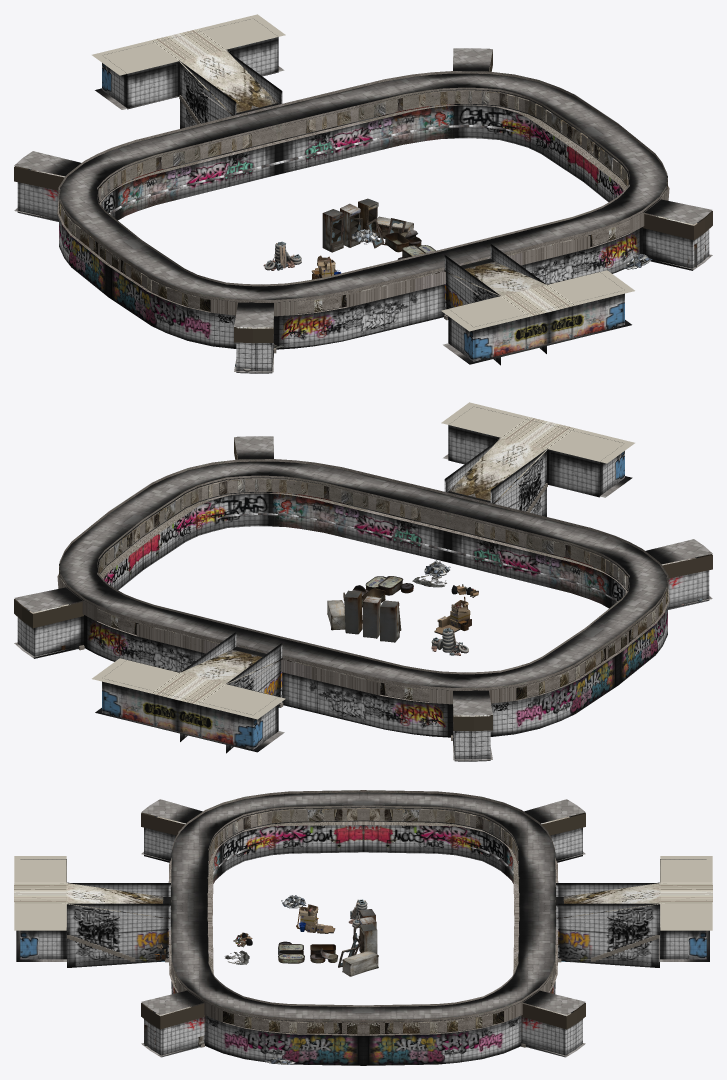
Rendered from metro_tunnel.glb.
The picture shows the model from 3 angles, top to bottom: view 1: azimuth 30°, elevation 25°; view 2: azimuth 150°, elevation 25°; view 3: azimuth 270°, elevation 25°; orthographic projection. The views are drawn at different scales.
Parts seen in each view (by area): view 1: Plane.001, Plane.006, Plane.007, Plane.004, Plane.005, node_0.006_Material.009_0, Cylinder.002, Plane.003, node_0.002_Material.007_0, node_0.013_Material.013_0; view 2: Plane.001, Plane.006, Plane.007, Plane.004, Plane.005, node_0.006_Material.009_0, Cylinder.002, node_0.002_Material.007_0, node_0.011_Material.012_0, Plane.003, node_0.013_Material.013_0; view 3: Plane.001, Plane.006, Plane.007, Plane.005, Plane.004, node_0.006_Material.009_0, node_0.002_Material.007_0, Cube.001, node_0.011_Material.012_0, Plane.003.
Boxes of the visible parts, <box> form: Plane.001: <box>17,19,709,373</box>; Plane.006: <box>14,48,712,327</box>; Plane.007: <box>14,14,712,343</box>; Plane.004: <box>57,71,669,316</box>; Plane.005: <box>97,87,629,286</box>; node_0.006_Material.009_0: <box>322,198,413,252</box>; Cylinder.002: <box>109,125,515,214</box>; Plane.003: <box>95,66,631,364</box>; node_0.002_Material.007_0: <box>385,230,435,259</box>; node_0.013_Material.013_0: <box>263,241,301,270</box>; Plane.001: <box>17,407,709,761</box>; Plane.006: <box>14,436,712,715</box>; Plane.007: <box>14,402,712,731</box>; Plane.004: <box>57,459,669,704</box>; Plane.005: <box>97,475,629,674</box>; node_0.006_Material.009_0: <box>327,590,401,642</box>; Cylinder.002: <box>216,513,617,602</box>; node_0.002_Material.007_0: <box>352,576,413,604</box>; node_0.011_Material.012_0: <box>434,596,471,634</box>; Plane.003: <box>95,454,632,752</box>; node_0.013_Material.013_0: <box>431,628,468,655</box>; Plane.001: <box>20,816,706,1065</box>; Plane.006: <box>108,792,618,1022</box>; Plane.007: <box>14,808,712,1034</box>; Plane.005: <box>207,805,519,1006</box>; Plane.004: <box>168,790,558,1035</box>; node_0.006_Material.009_0: <box>338,909,378,976</box>; node_0.002_Material.007_0: <box>278,941,337,963</box>; Cube.001: <box>66,914,659,961</box>; node_0.011_Material.012_0: <box>296,904,335,933</box>; Plane.003: <box>16,904,709,961</box>.
Bounding box in the file's own units: 21.81 × 2.84 × 27.69.
12 materials, 12 textured.
